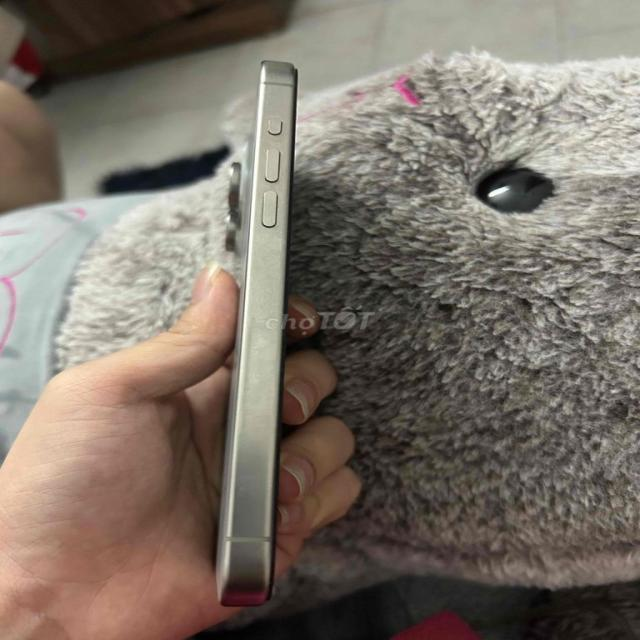gen_15: (206, 53, 322, 612)
scratch: (246, 297, 270, 430), (227, 468, 264, 498)
